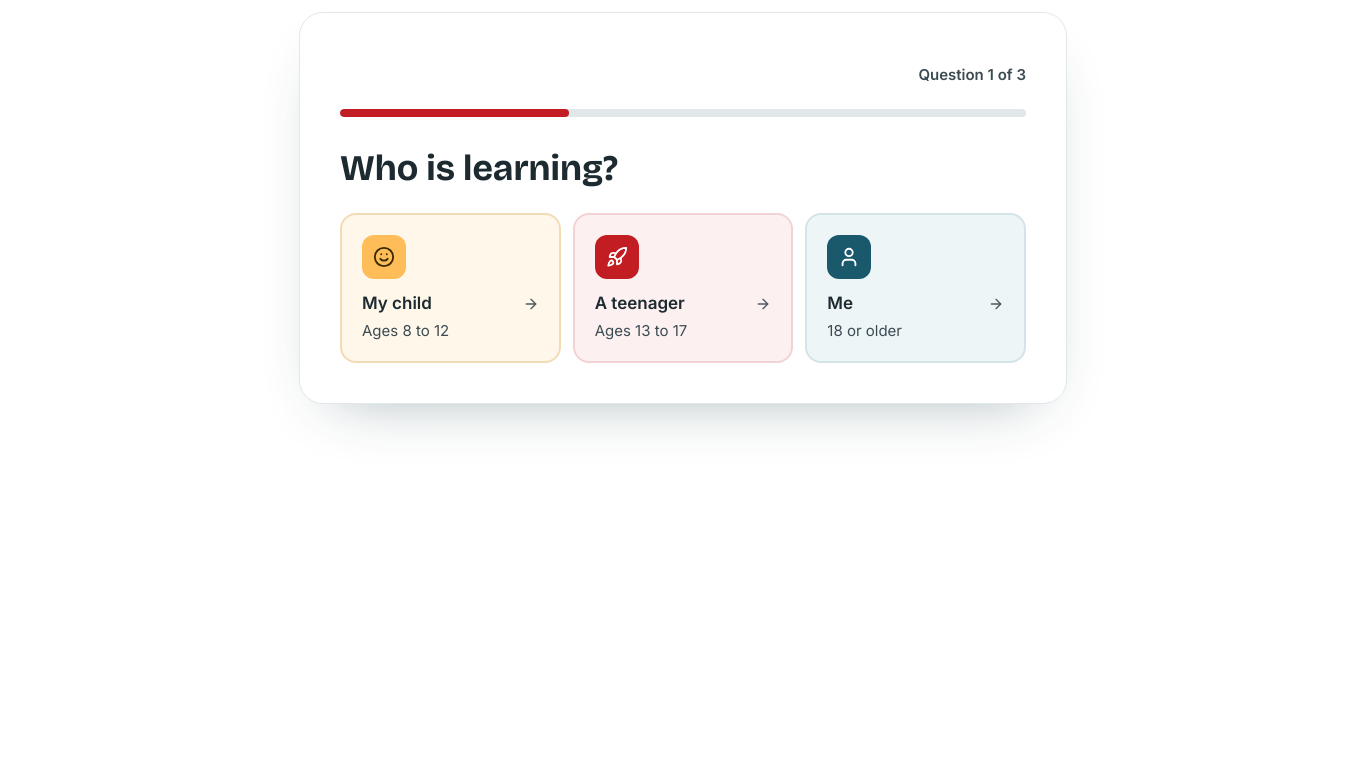
course finder › shows the same 'from' price as /courses: the cheapest way to take the course
Click the button "My child Ages 8 to 12" at [450, 288], box [340,213,561,363]
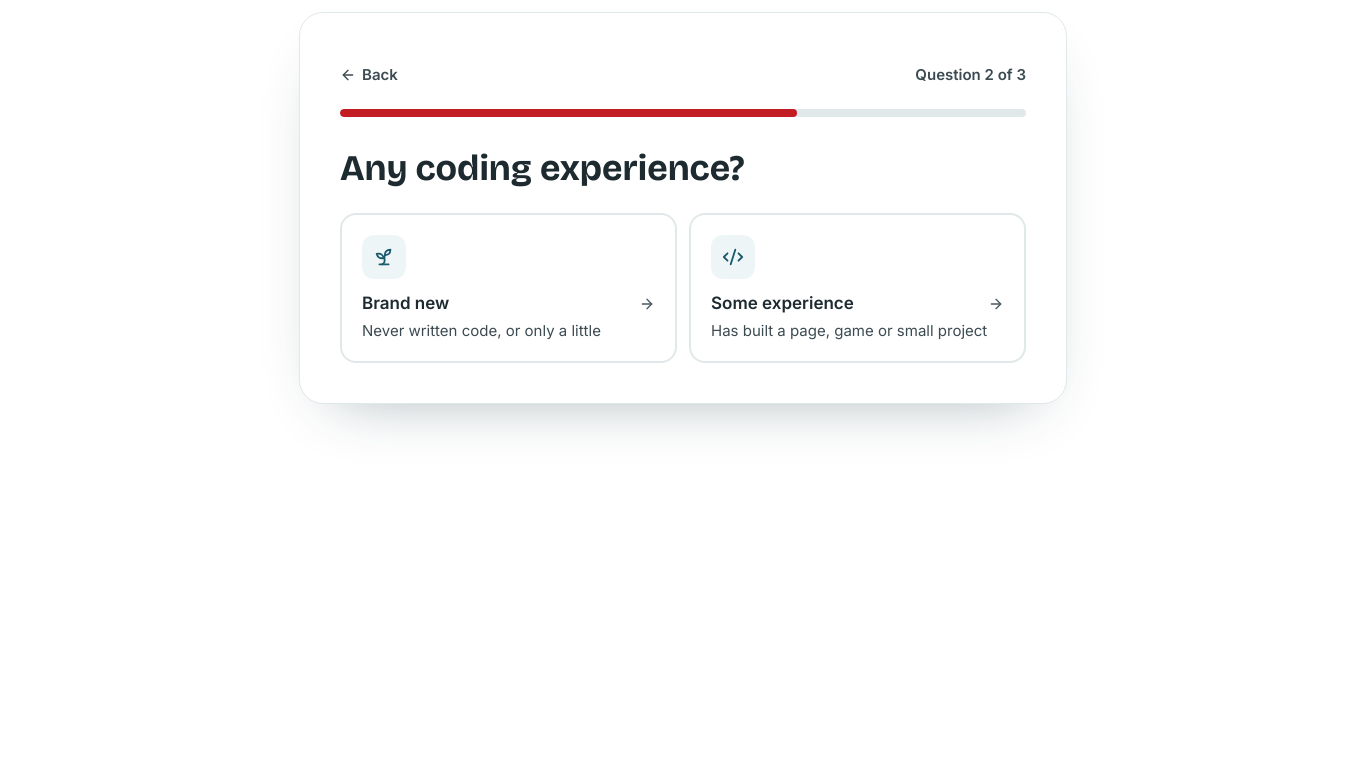
Click the button "Brand new Never written code, or only a little" at [384, 257], box [340,213,677,363]
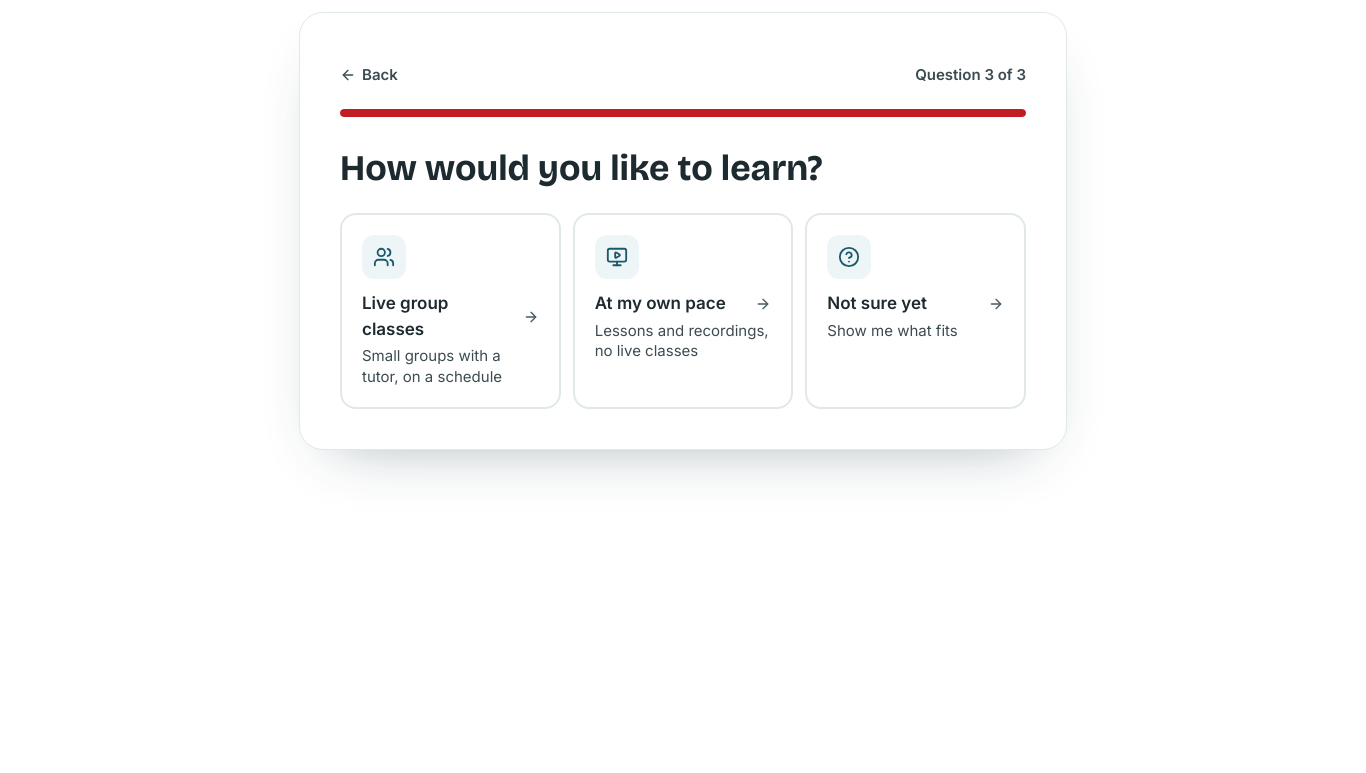
Click the button "Not sure yet Show me what fits" at [916, 311], box [805,213,1026,409]
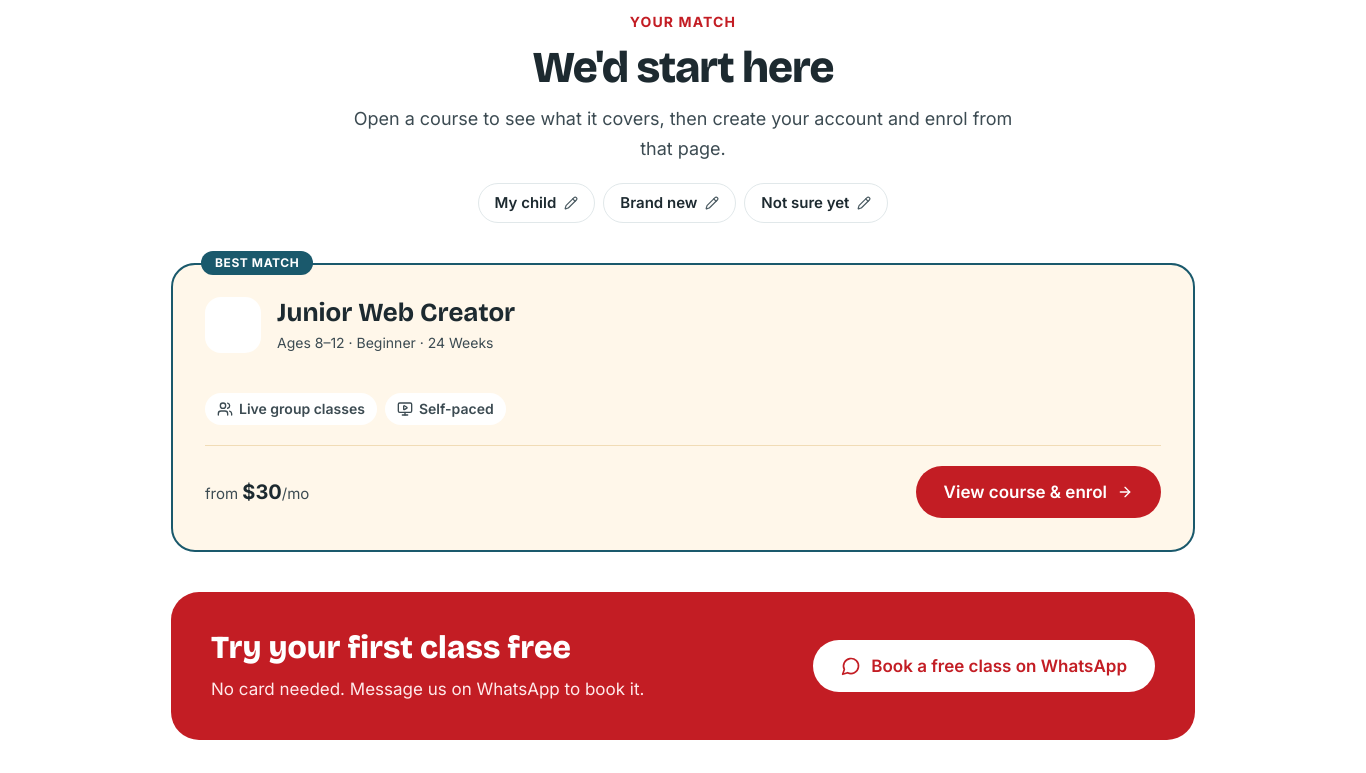
Expected: the text "from $30/mo" is shown, [205,478,309,506]
